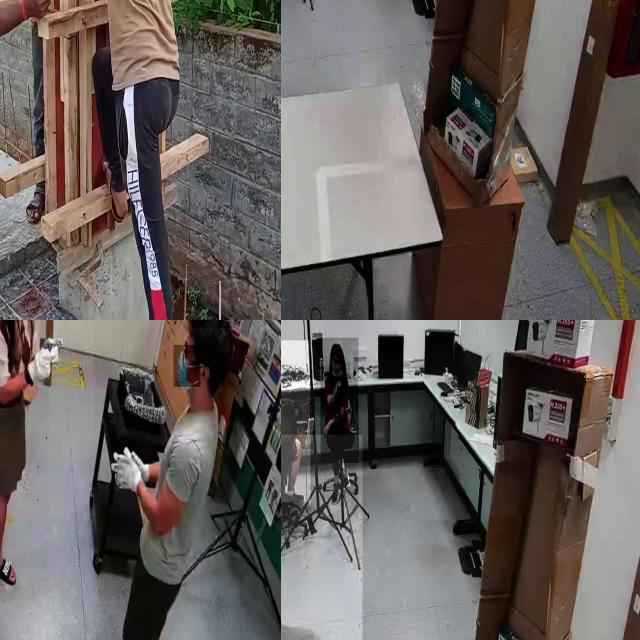face_mask: (173, 345, 200, 387)
hand_glove: (112, 450, 152, 490), (28, 347, 52, 391)
hand_noglove: (20, 0, 56, 18), (321, 418, 331, 437)
head_nohelmet: (187, 320, 232, 328), (329, 341, 343, 354)
person: (94, 320, 243, 640), (0, 320, 49, 620), (321, 338, 359, 463), (281, 340, 310, 502)
shoes: (329, 479, 347, 509), (337, 464, 351, 490)
